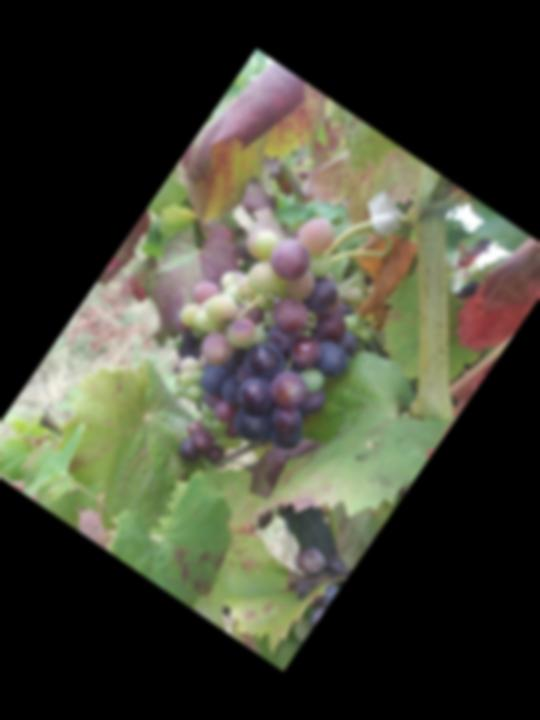grape: (110, 174, 421, 512)
